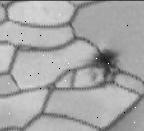good_void: (96, 48, 121, 76)
